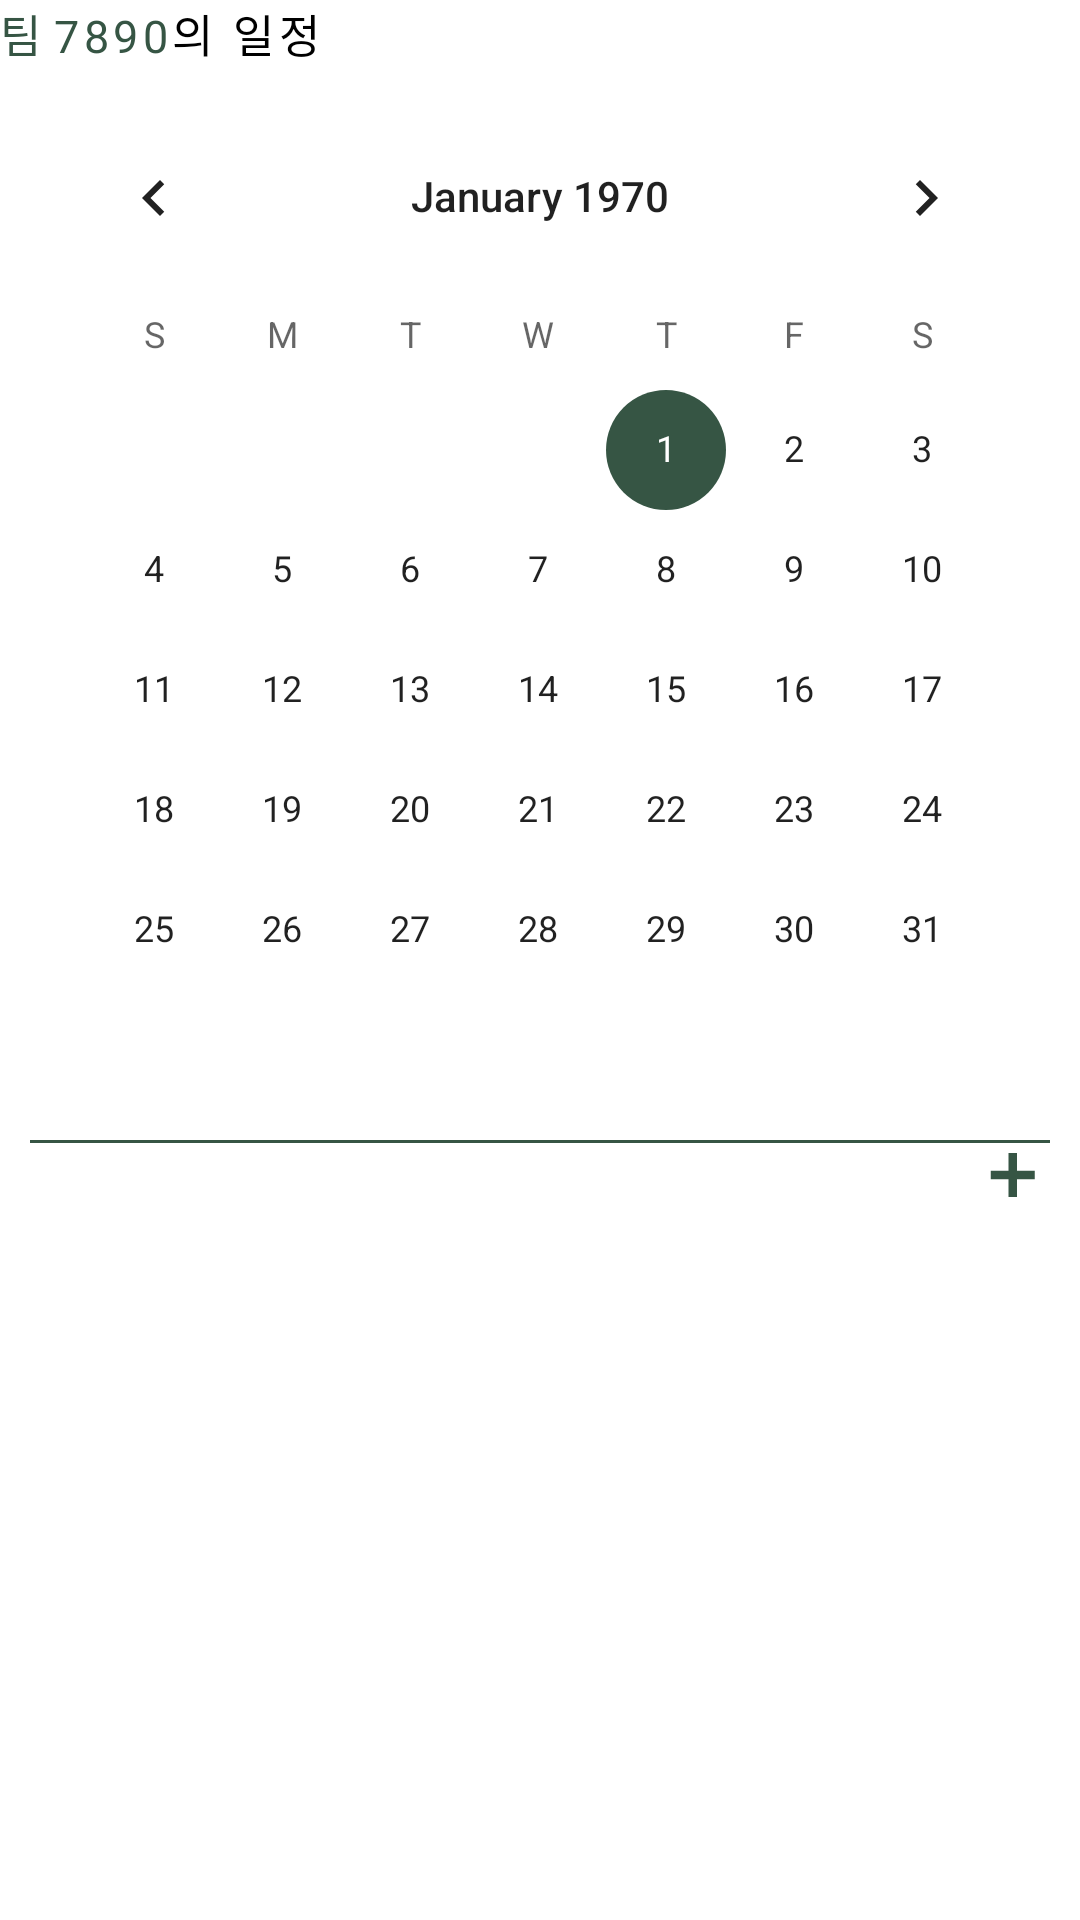

Icons on this 1080 × 1920 Android screen, each with its box as (x1, y1, x2, y2):
plus: (990, 1153, 1035, 1197)
